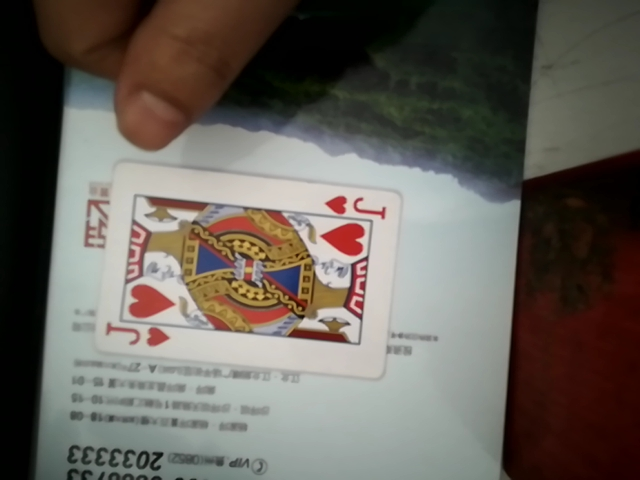hx j: (91, 163, 409, 378)
